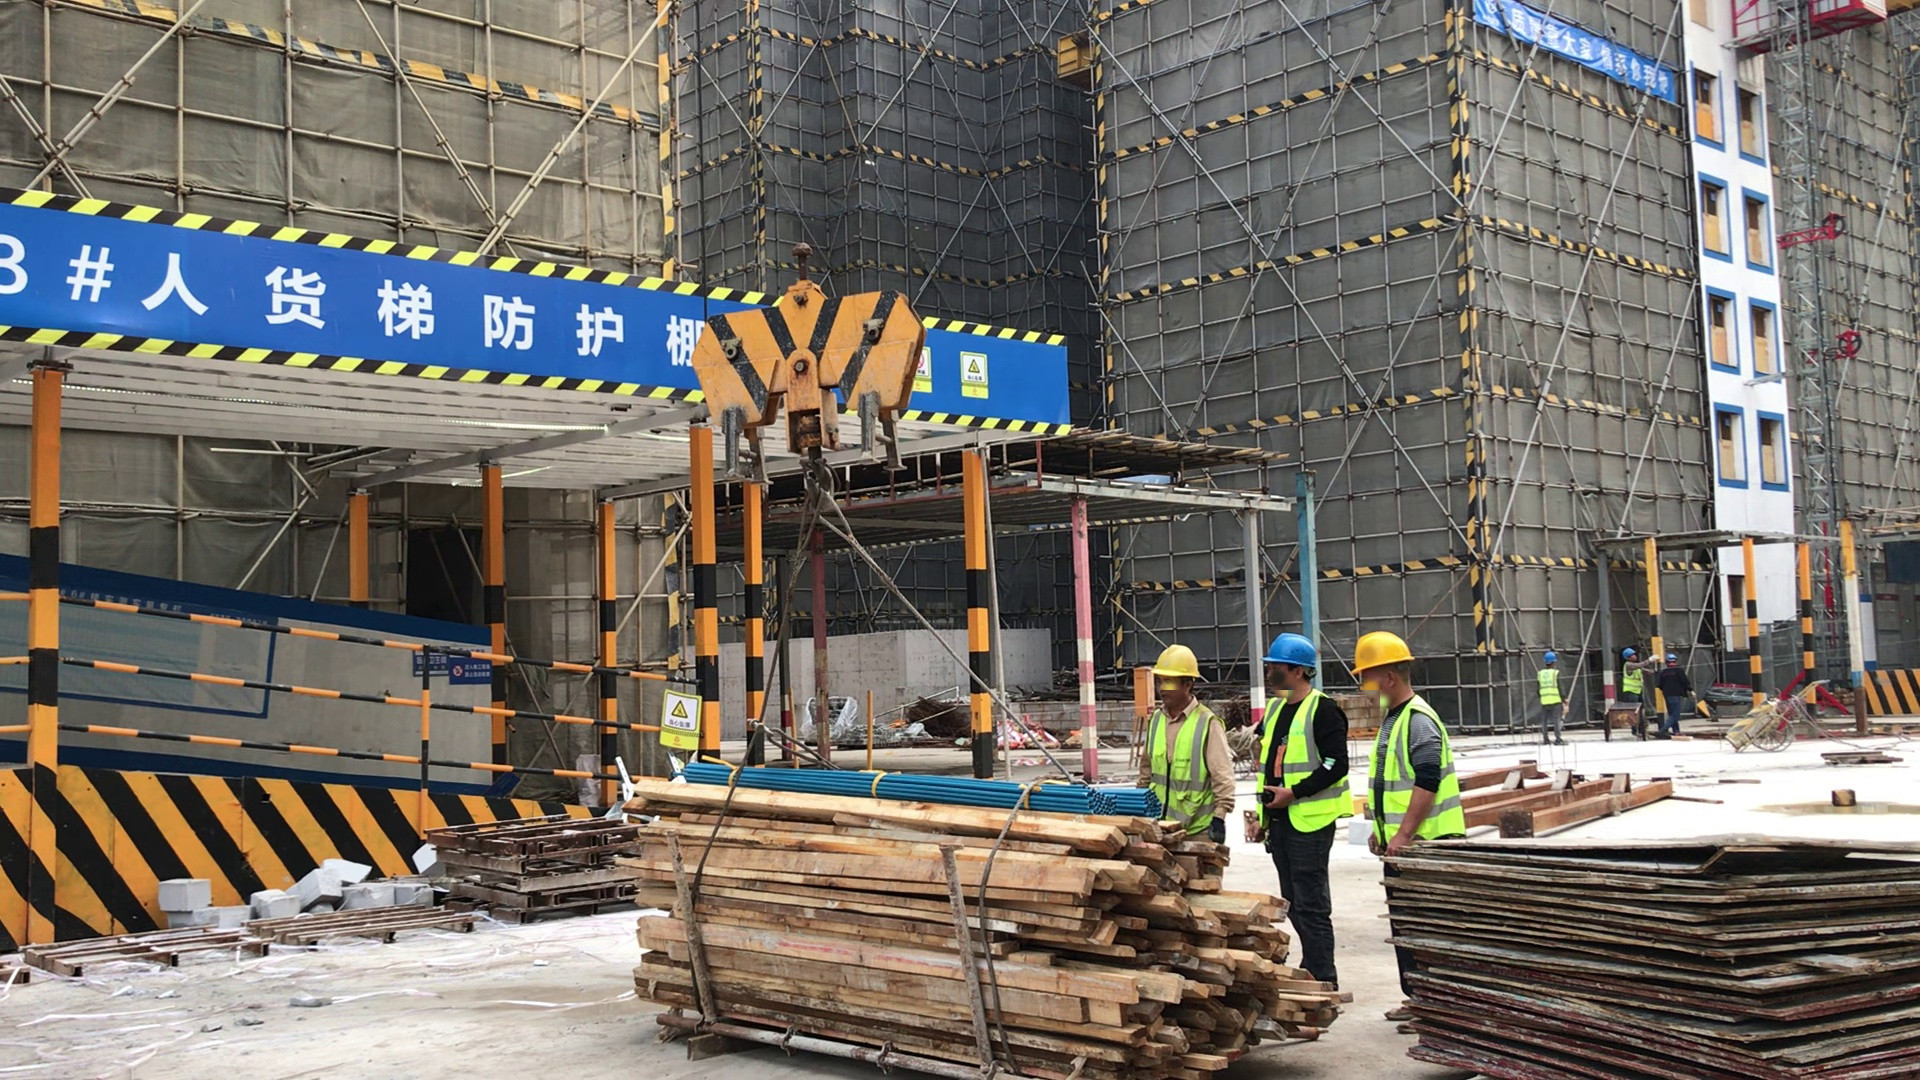helmet: (1352, 631, 1417, 673), (1260, 629, 1319, 665), (1151, 644, 1201, 677), (1543, 651, 1558, 663), (1621, 649, 1635, 658), (1666, 654, 1676, 663)
person: (1248, 631, 1354, 1011), (1341, 623, 1471, 854), (1134, 639, 1240, 846), (1535, 650, 1570, 747), (1654, 654, 1693, 738), (1619, 647, 1646, 703)
vest: (1252, 681, 1341, 839), (1367, 702, 1463, 846), (1138, 702, 1231, 833), (1537, 668, 1561, 705), (1622, 662, 1643, 695)
